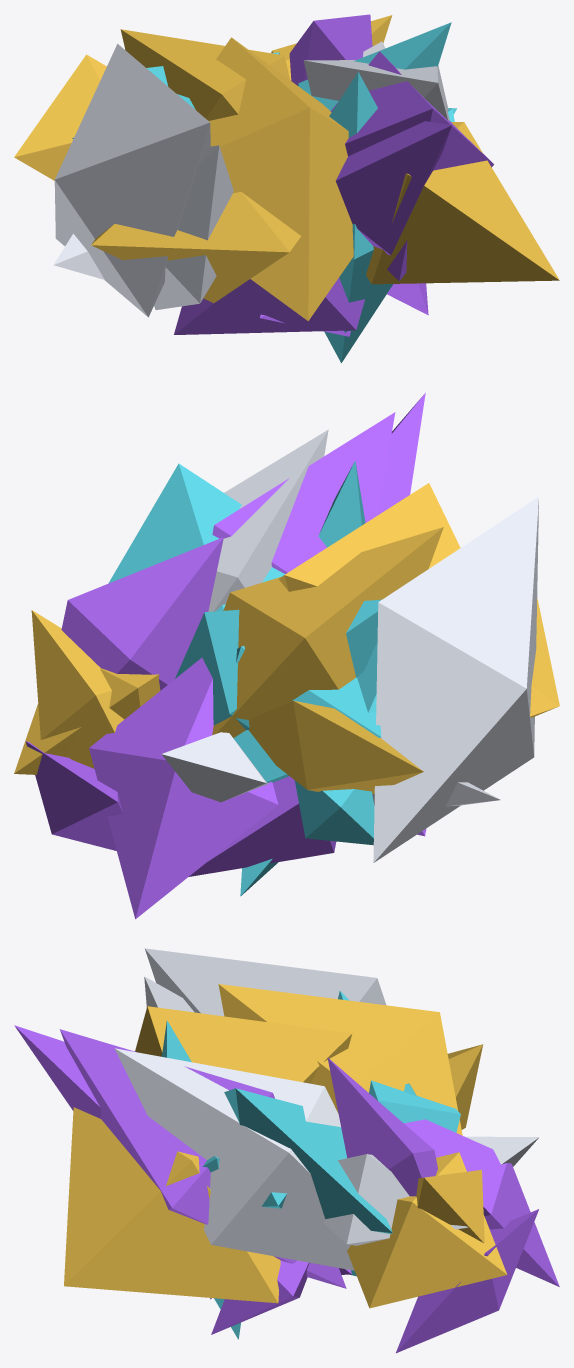
File: crystal-seam-kit.glb
The picture shows the model from 3 angles, top to bottom: view 1: azimuth 30°, elevation 25°; view 2: azimuth 150°, elevation 25°; view 3: azimuth 270°, elevation 25°; orthographic projection. The views are drawn at different scales.
Visible parts, largest first — view 1: ridge-quartz-intact-shard-4, tidal-glass-intact-shard-2, tidal-glass-intact-shard-1, tidal-glass-intact-shard-4, field-crystal-intact-shard-1, tidal-glass-intact-shard-0, field-crystal-intact-shard-3, ridge-quartz-intact-shard-3, field-crystal-intact-shard-4, tidal-glass-worked-shard-0, improbability-intact-shard-5, ridge-quartz-intact-shard-2 (+5 smaller); view 2: ridge-quartz-intact-shard-4, field-crystal-intact-shard-2, tidal-glass-intact-shard-0, field-crystal-intact-shard-5, tidal-glass-worked-shard-0, field-crystal-intact-shard-4, tidal-glass-worked-shard-2, ridge-quartz-intact-shard-2, improbability-intact-shard-0, tidal-glass-intact-shard-2, improbability-intact-shard-1, field-crystal-worked-shard-1 (+10 smaller); view 3: ridge-quartz-intact-shard-2, tidal-glass-intact-shard-1, tidal-glass-intact-shard-0, tidal-glass-intact-shard-3, field-crystal-intact-shard-4, tidal-glass-intact-shard-2, ridge-quartz-intact-shard-4, improbability-intact-shard-0, field-crystal-intact-shard-5, field-crystal-worked-shard-1, field-crystal-intact-shard-2, ridge-quartz-intact-shard-5 (+8 smaller).
Part boxes in pixels (x1,y1,x2,y2): ridge-quartz-intact-shard-4: (54,43,210,317); tidal-glass-intact-shard-2: (209,37,353,321); tidal-glass-intact-shard-1: (366,122,559,284); tidal-glass-intact-shard-4: (91,192,300,303); field-crystal-intact-shard-1: (336,121,451,255); tidal-glass-intact-shard-0: (120,29,289,120); field-crystal-intact-shard-3: (174,278,364,334); ridge-quartz-intact-shard-3: (154,145,233,309); field-crystal-intact-shard-4: (330,51,493,281); tidal-glass-worked-shard-0: (14,54,106,180); improbability-intact-shard-5: (324,72,392,362); ridge-quartz-intact-shard-2: (303,60,449,120); ridge-quartz-intact-shard-4: (373,496,538,862); field-crystal-intact-shard-2: (89,657,278,919); tidal-glass-intact-shard-0: (212,527,443,737); field-crystal-intact-shard-5: (61,537,223,690); tidal-glass-worked-shard-0: (248,700,423,794); field-crystal-intact-shard-4: (212,412,395,573); tidal-glass-worked-shard-2: (31,610,124,768); ridge-quartz-intact-shard-2: (208,429,328,611); improbability-intact-shard-0: (108,463,284,611); tidal-glass-intact-shard-2: (279,483,460,591); improbability-intact-shard-1: (175,599,381,730); field-crystal-worked-shard-1: (25,741,122,850); ridge-quartz-intact-shard-2: (114,1048,354,1270); tidal-glass-intact-shard-1: (64,1107,280,1303); tidal-glass-intact-shard-0: (218,984,462,1135); tidal-glass-intact-shard-3: (347,1152,507,1308); field-crystal-intact-shard-4: (59,1029,346,1288); tidal-glass-intact-shard-2: (135,1006,351,1083); ridge-quartz-intact-shard-4: (144,948,386,1016); improbability-intact-shard-0: (224,1088,392,1233); field-crystal-intact-shard-5: (327,1057,437,1196); field-crystal-worked-shard-1: (396,1209,538,1353); field-crystal-intact-shard-2: (404,1119,559,1286); ridge-quartz-intact-shard-5: (323,1154,467,1245).
Bounding box in the file's own units: 2.58 × 2.01 × 3.18.
